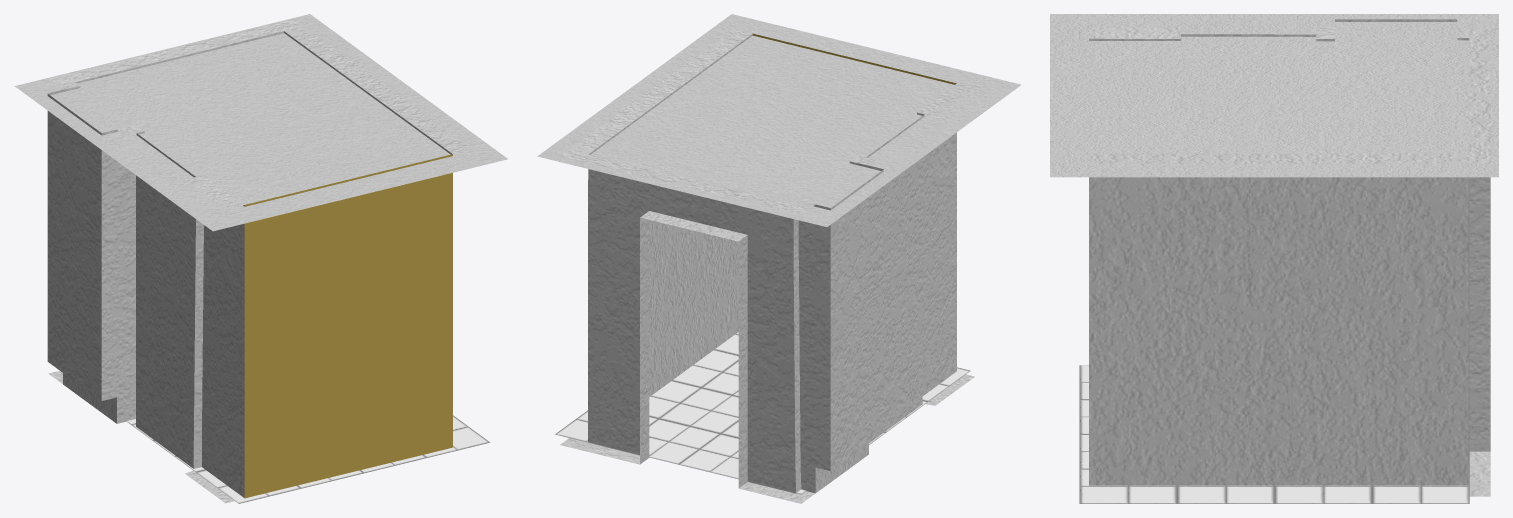
Rendered from Bathroom_Base_PD_V1.fbx.
3 renders of one model, left to right at view 1: azimuth 30°, elevation 25°; view 2: azimuth 150°, elevation 25°; view 3: azimuth 270°, elevation 25°, orthographic. The views are drawn at different scales.
Visible parts, largest first — view 1: wall, ceiling, floor; view 2: wall, ceiling, floor; view 3: wall, ceiling, floor.
Part boxes in pixels (x1=…): wall: x1=47, y1=19, x2=470, y2=503; ceiling: x1=14, y1=14, x2=507, y2=231; floor: x1=126, y1=415, x2=489, y2=503; wall: x1=560, y1=29, x2=974, y2=503; ceiling: x1=537, y1=14, x2=1021, y2=226; floor: x1=555, y1=332, x2=970, y2=494; wall: x1=1089, y1=19, x2=1490, y2=496; ceiling: x1=1050, y1=14, x2=1498, y2=177; floor: x1=1079, y1=365, x2=1469, y2=503.
Size of the model in its own units: 8.42 by 8.01 by 9.79.
